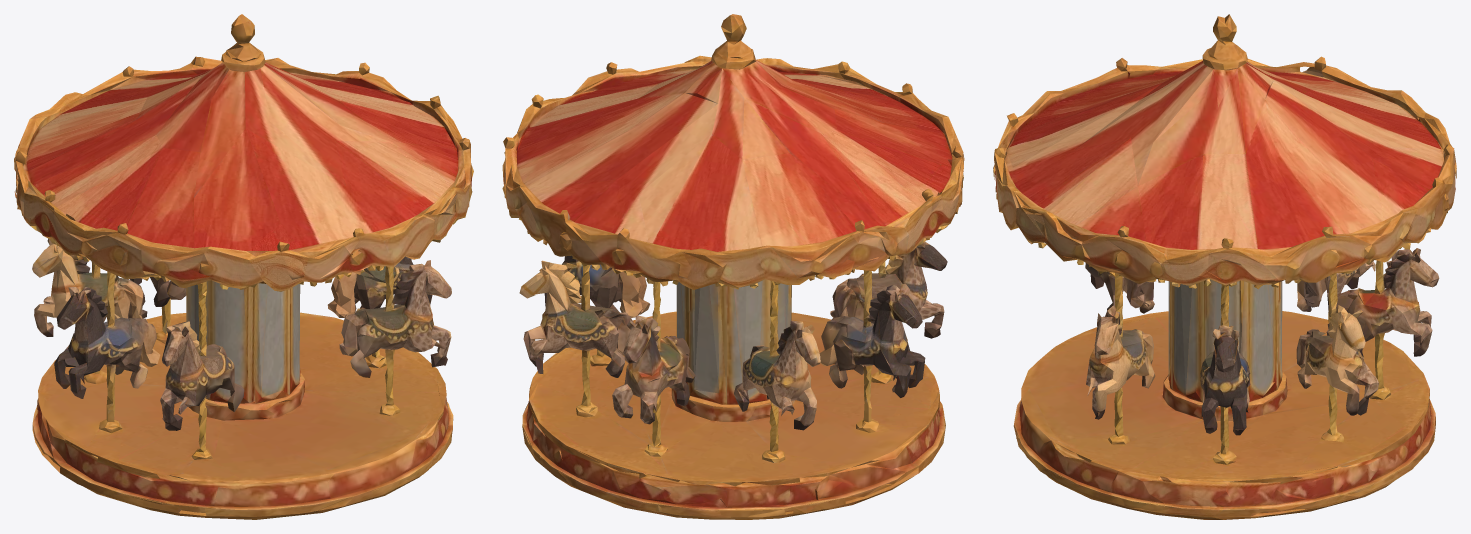
File: carousel.glb
3 renders of one model, left to right at view 1: azimuth 30°, elevation 25°; view 2: azimuth 150°, elevation 25°; view 3: azimuth 270°, elevation 25°, orthographic.
Size of the model in its own units: 13.95 by 14 by 14.
1 material, 1 textured.
